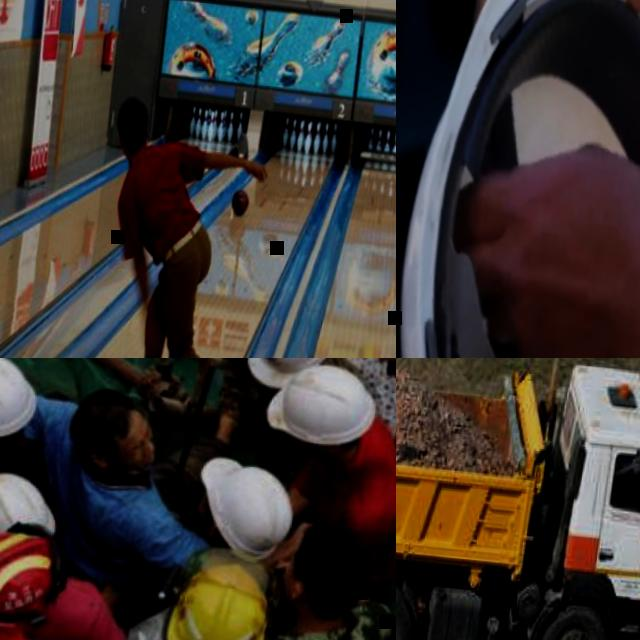Hardhat: (396, 0, 640, 358), (186, 439, 303, 571), (147, 552, 283, 640), (262, 359, 380, 448), (0, 526, 59, 623), (0, 464, 64, 550), (0, 358, 53, 449), (244, 358, 351, 399)
NO-Hardhat: (292, 524, 368, 609), (67, 384, 136, 450), (117, 93, 149, 132)
NO-Mask: (132, 444, 159, 475), (281, 570, 301, 598)
NO-Safety Vest: (37, 437, 156, 588), (290, 446, 396, 571), (121, 139, 207, 256), (18, 581, 103, 640), (0, 413, 52, 495), (228, 358, 282, 431), (356, 358, 396, 436), (285, 616, 396, 640)
Person: (428, 0, 640, 358), (86, 91, 286, 358), (1, 366, 220, 600), (248, 358, 396, 580), (212, 358, 363, 475), (0, 526, 141, 640), (264, 521, 396, 640), (188, 437, 303, 572), (0, 358, 74, 520)
vehicle: (396, 358, 640, 640)
